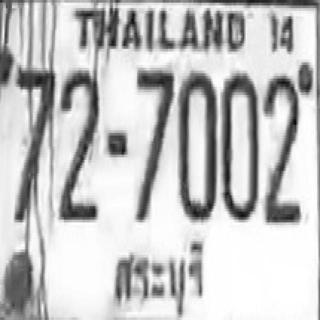N00: (177, 66, 216, 218), (220, 69, 258, 218)
N02: (57, 65, 99, 220), (262, 72, 299, 221)
N07: (13, 62, 55, 220), (135, 65, 172, 220)
P60: (109, 238, 206, 312)
